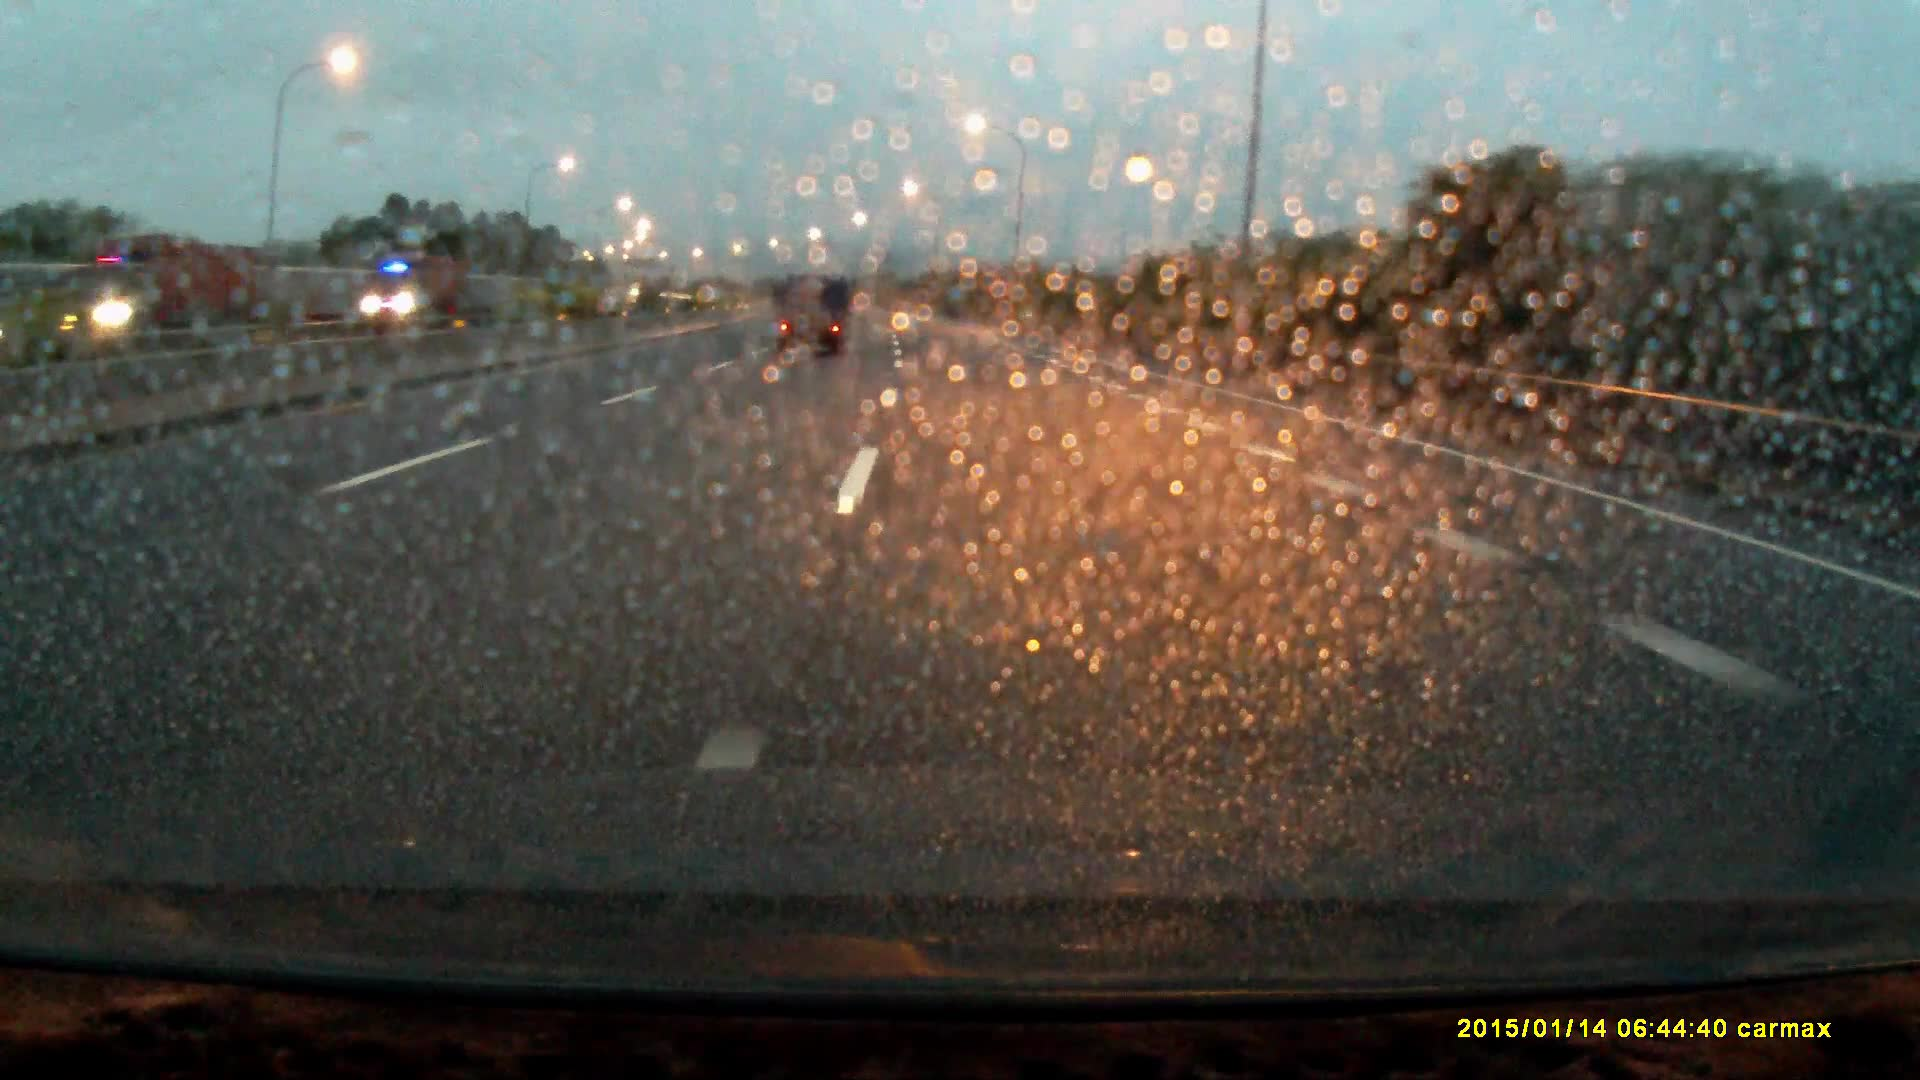vehicle: (54, 236, 251, 334), (357, 253, 468, 320), (771, 274, 851, 361)
